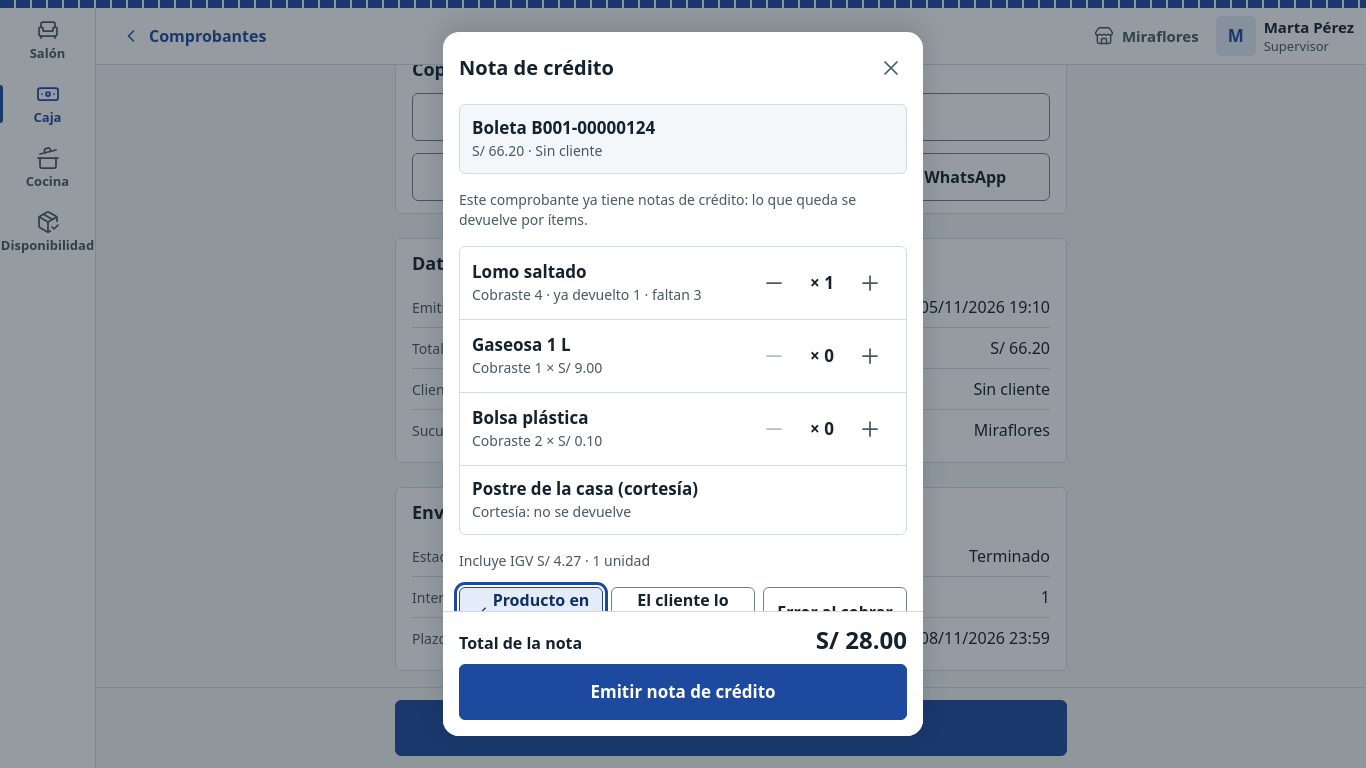
Test case: F2 · criterios 153 y 177 · la respuesta tardía de una hoja cerrada no borra el intento de la hoja siguiente › con el envío X de la hoja cerrada resuelto tarde con 201 y Y en vuelo, si Y recibe un 500 su reintento repite el id de Y
Earlier steps of the test are not shown.
Later steps or results of the test are not shown.
(page scrolled)
Click the button "Emitir nota de crédito" at (683, 692), box [459,664,907,720]
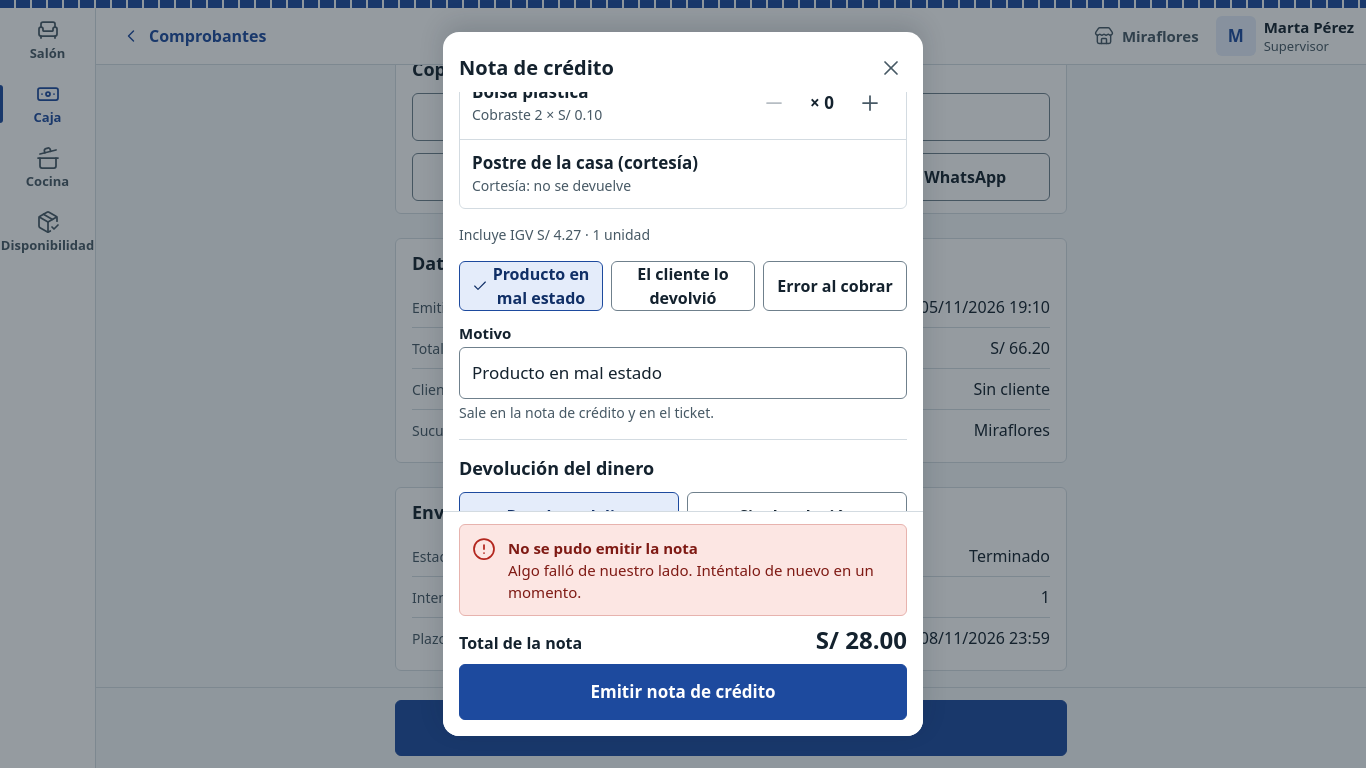
Now the text "No se pudo emitir la nota" is shown, box [508,538,698,558]
